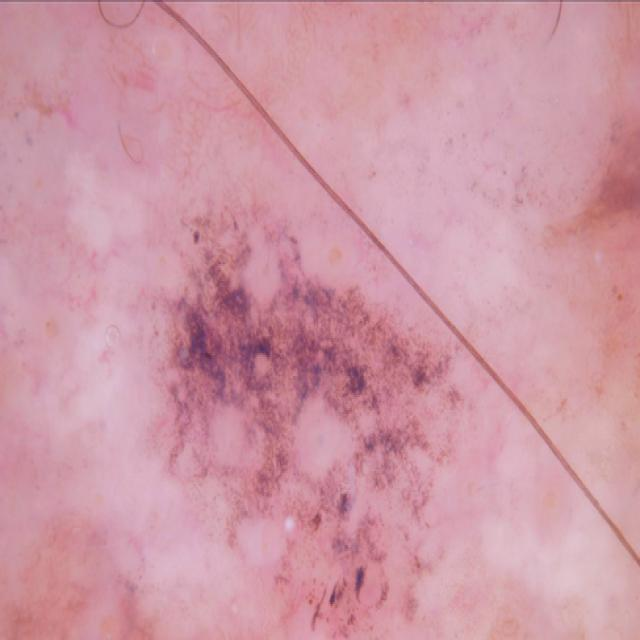Keratosis: (145, 174, 461, 640)
